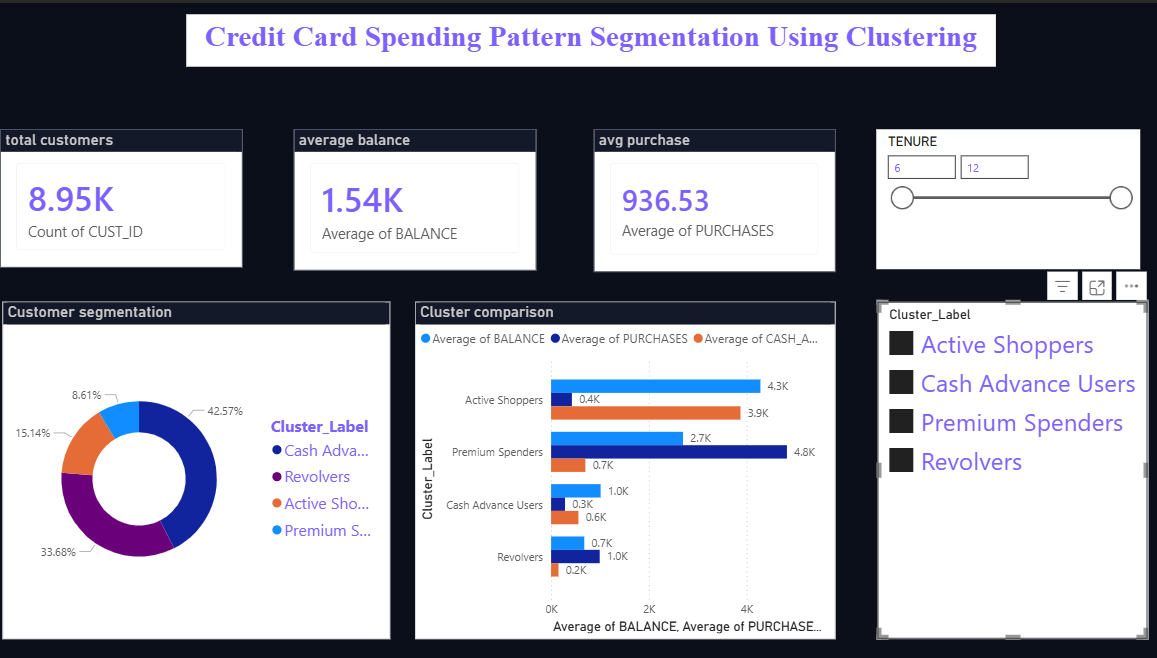

This screenshot's page, from the dashboard's own definition file:
{"tool":"powerbi","page":{"name":"Page 3","canvas":[1280,720],"ordinal":2},"visuals":[{"type":"textbox","box":[205.1,12.8,888.5,57.7],"z":0},{"type":"cardVisual","title":"total customers","fields":{"Data":["Count(Cleaned_Data.CUST_ID)"]},"box":[0,138.7,266.3,152.1],"z":1000},{"type":"cardVisual","title":"average balance","fields":{"Data":["Avg(Cleaned_Data.BALANCE)"]},"box":[321.8,138.5,266.7,155.1],"z":2000},{"type":"cardVisual","title":"avg purchase","fields":{"Data":["Avg(Cleaned_Data.PURCHASES)"]},"box":[651.3,138.5,265.4,156.4],"z":3000},{"type":"donutChart","title":"Customer segmentation","fields":{"Category":["Cleaned_Data.Cluster_Label"],"Y":["CountNonNull(Cleaned_Data.CUST_ID)"]},"box":[2.6,328.2,425.6,370.5],"z":4000},{"type":"clusteredBarChart","title":"Cluster comparison","fields":{"Category":["Cleaned_Data.Cluster_Label"],"Y":["Avg(Cleaned_Data.BALANCE)","Avg(Cleaned_Data.PURCHASES)","Avg(Cleaned_Data.CASH_ADVANCE)"]},"box":[455.1,328.2,461.5,370.5],"z":5000},{"type":"slicer","fields":{"Values":["Cleaned_Data.Cluster_Label"]},"box":[962.8,328.2,297.4,370.5],"z":6000},{"type":"slicer","fields":{"Values":["Cleaned_Data.TENURE"]},"box":[961.5,138.5,289.7,152.6],"z":7000}]}

Visuals, with their boxes in screenshot pixels (x1, y1, x2, y2), scaled from the page's 1280x720 canvas onto the 1157x658 screenshot:
textbox: 185, 12, 989, 64
"total customers" cardVisual: 0, 127, 241, 266
"average balance" cardVisual: 291, 127, 532, 268
"avg purchase" cardVisual: 589, 127, 829, 270
"Customer segmentation" donutChart: 2, 300, 387, 639
"Cluster comparison" clusteredBarChart: 411, 300, 829, 639
slicer - Cleaned_Data.Cluster_Label: 870, 300, 1139, 639
slicer - Cleaned_Data.TENURE: 869, 127, 1131, 266
